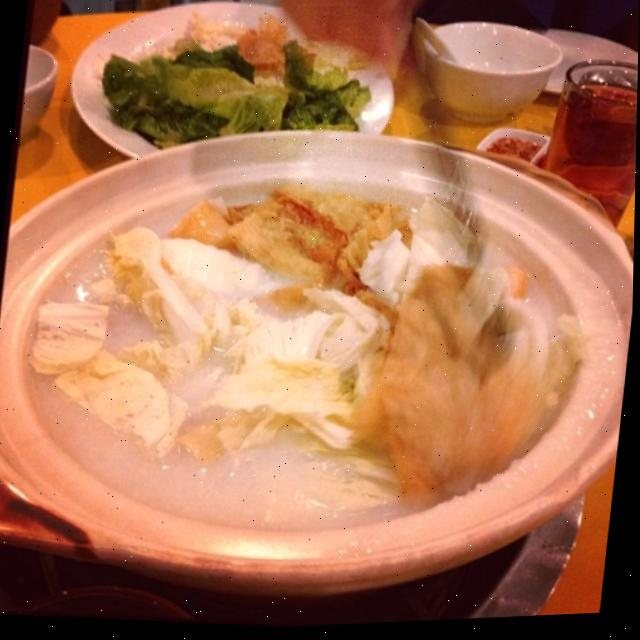汤锅炖物: (0, 52, 639, 626)
